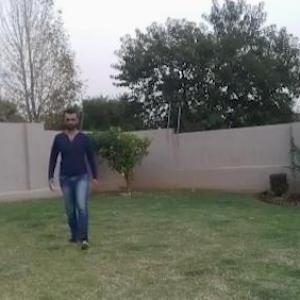follow: (56, 112, 99, 245)
